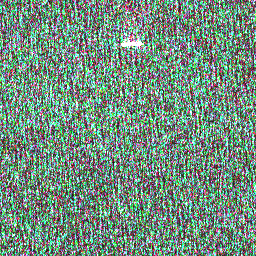ship: (119, 40, 143, 48)
